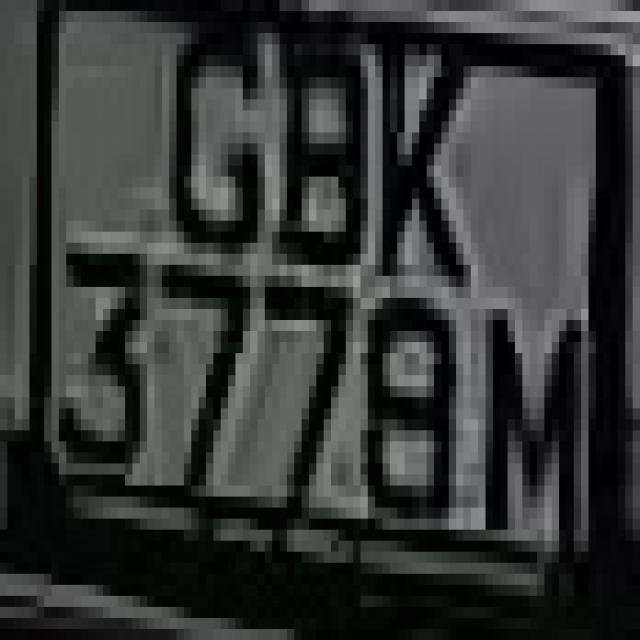3: (15, 188, 162, 508)
7: (140, 198, 243, 508), (272, 254, 353, 552)
8: (360, 254, 486, 574)
B: (257, 44, 390, 320)
G: (154, 11, 280, 287)
K: (346, 22, 515, 309)
M: (463, 309, 596, 574)
